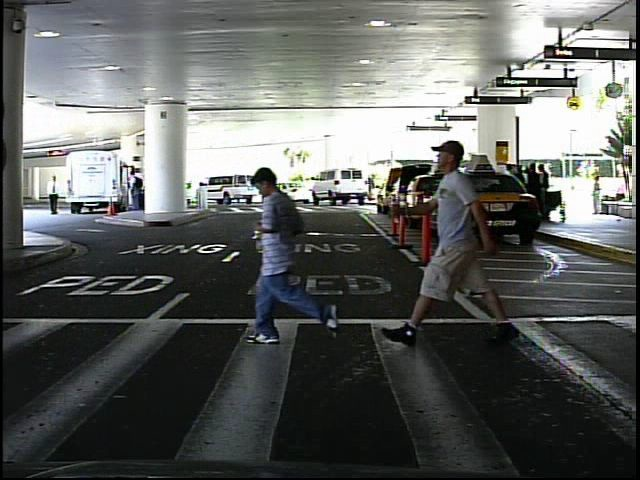person: (389, 134, 521, 358), (252, 153, 353, 354), (46, 171, 65, 217), (588, 172, 607, 218), (364, 172, 380, 202)
